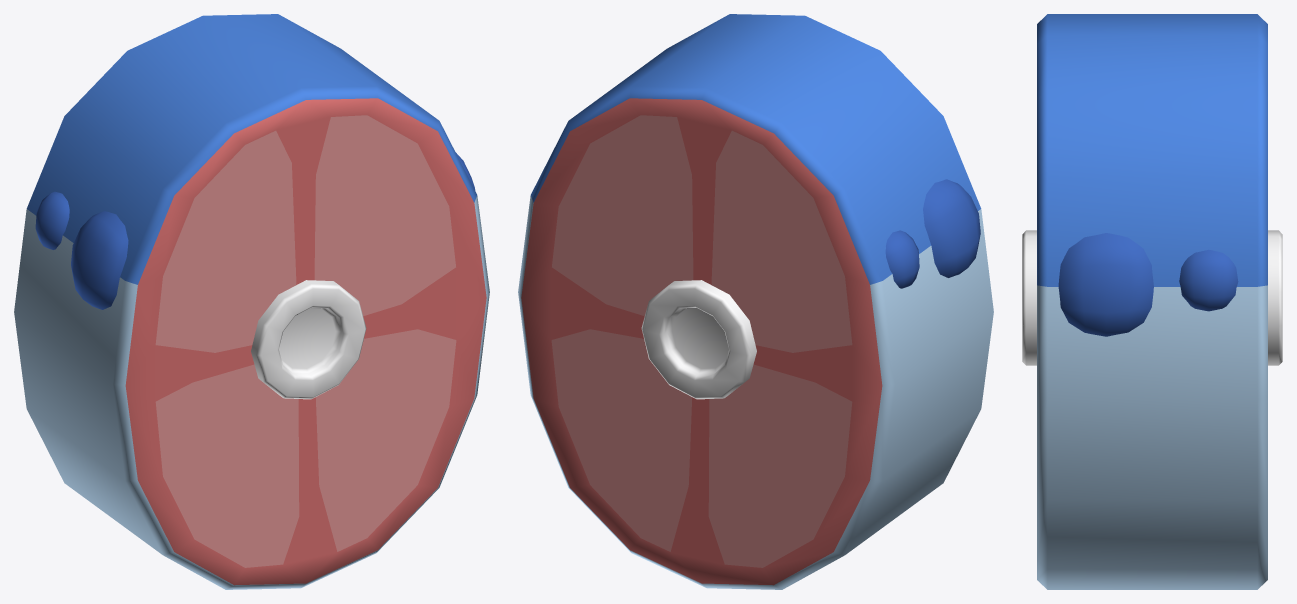
Rendered from Sardine_Slice.fbx.
The picture shows the model from 3 angles, left to right: view 1: azimuth 30°, elevation 25°; view 2: azimuth 150°, elevation 25°; view 3: azimuth 270°, elevation 25°; orthographic projection. The views are drawn at different scales.
Visible parts, largest first — view 1: Sardine_Slice; view 2: Sardine_Slice; view 3: Sardine_Slice.
Part boxes in pixels (left/top/right/bottom): Sardine_Slice: left=14, top=14, right=489, bottom=589; Sardine_Slice: left=518, top=14, right=993, bottom=589; Sardine_Slice: left=1022, top=14, right=1282, bottom=589.
Bounding box in the file's own units: 3.92 × 4.88 × 2.16.
